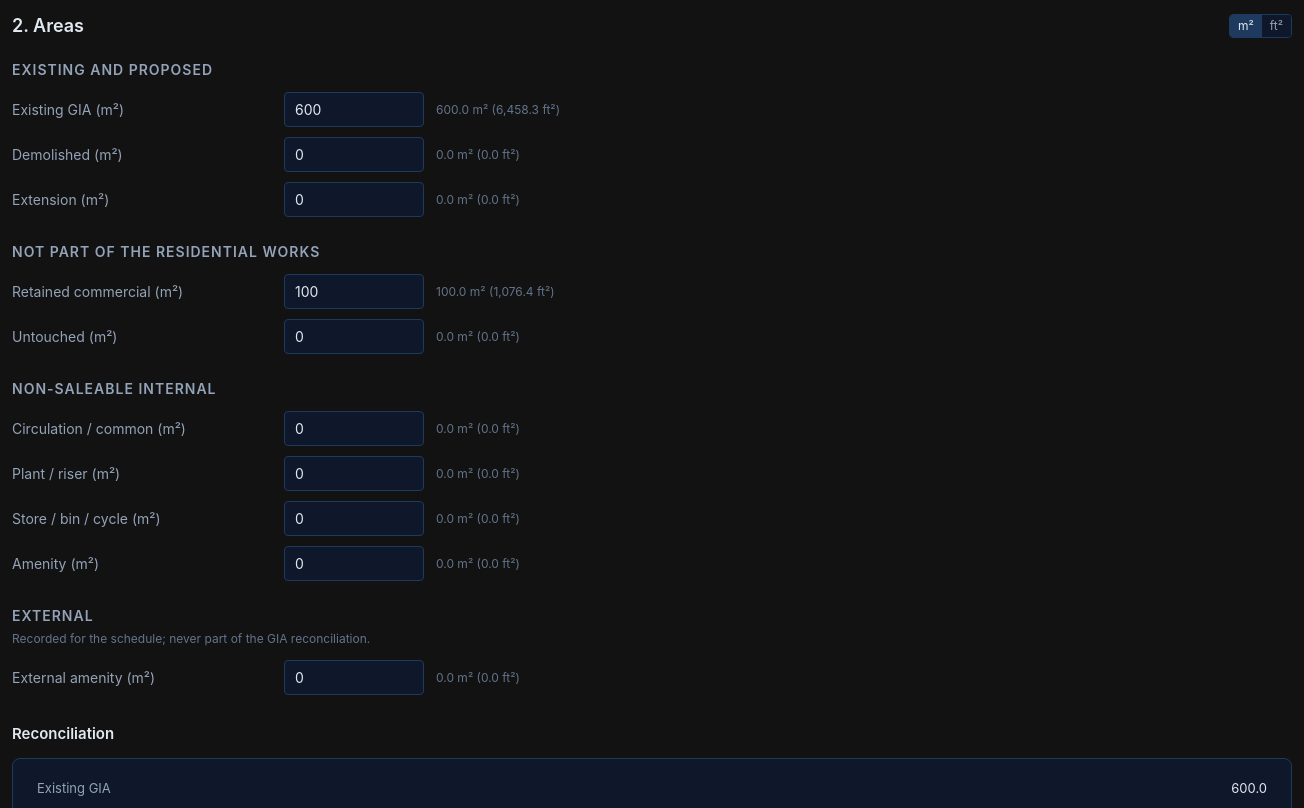
Test case: AreaUnitToggle › flips the Areas page labels and persists the preference
Check: the number field labelled "Existing GIA (m²)" is shown, box [284,92,424,127]
Click the button "ft²". click: (1276, 26)
box: [1262,14,1291,36]
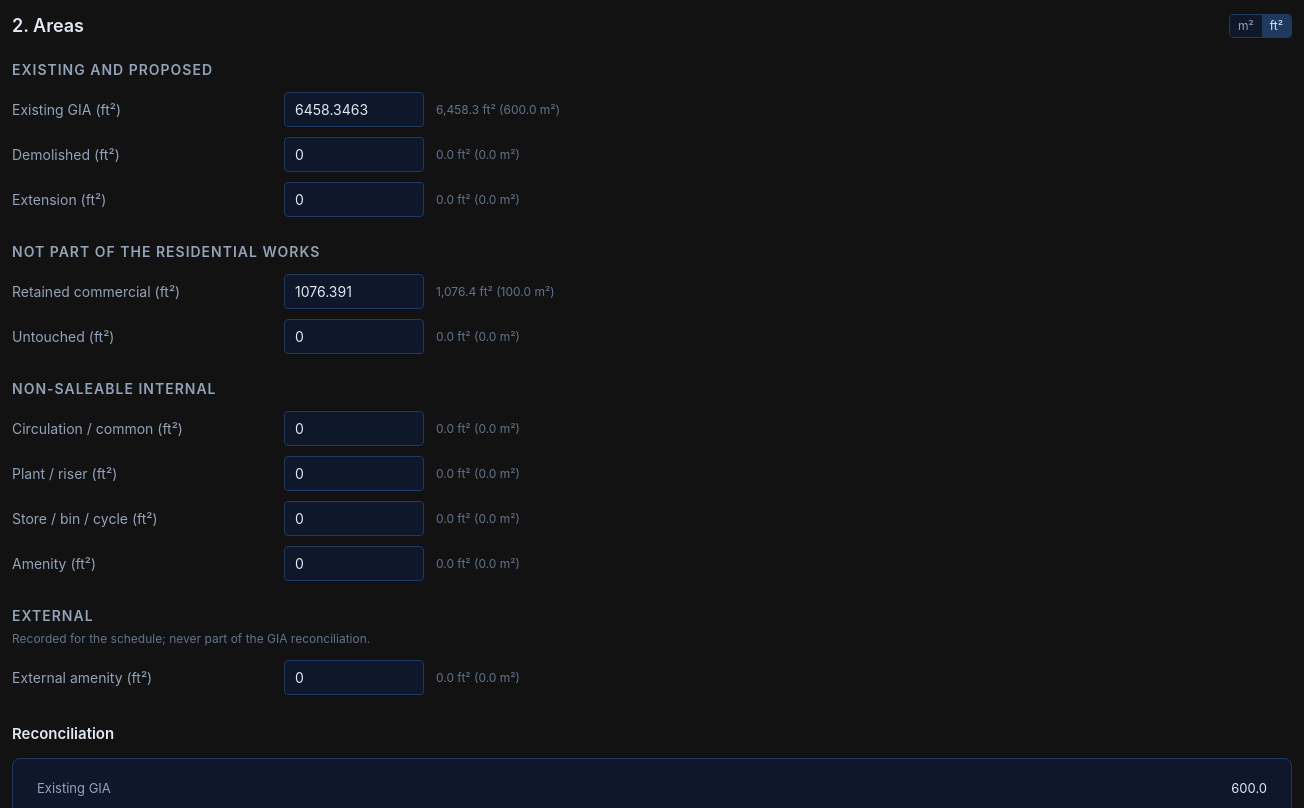
Check: the label labelled "Existing GIA (m²)" is gone
Check: the number field labelled "Existing GIA (ft²)" holds "6458.3463", box [284,92,424,127]
Check: the text "6,458.3 ft² (600.0 m²)" is shown, box [436,100,560,118]
